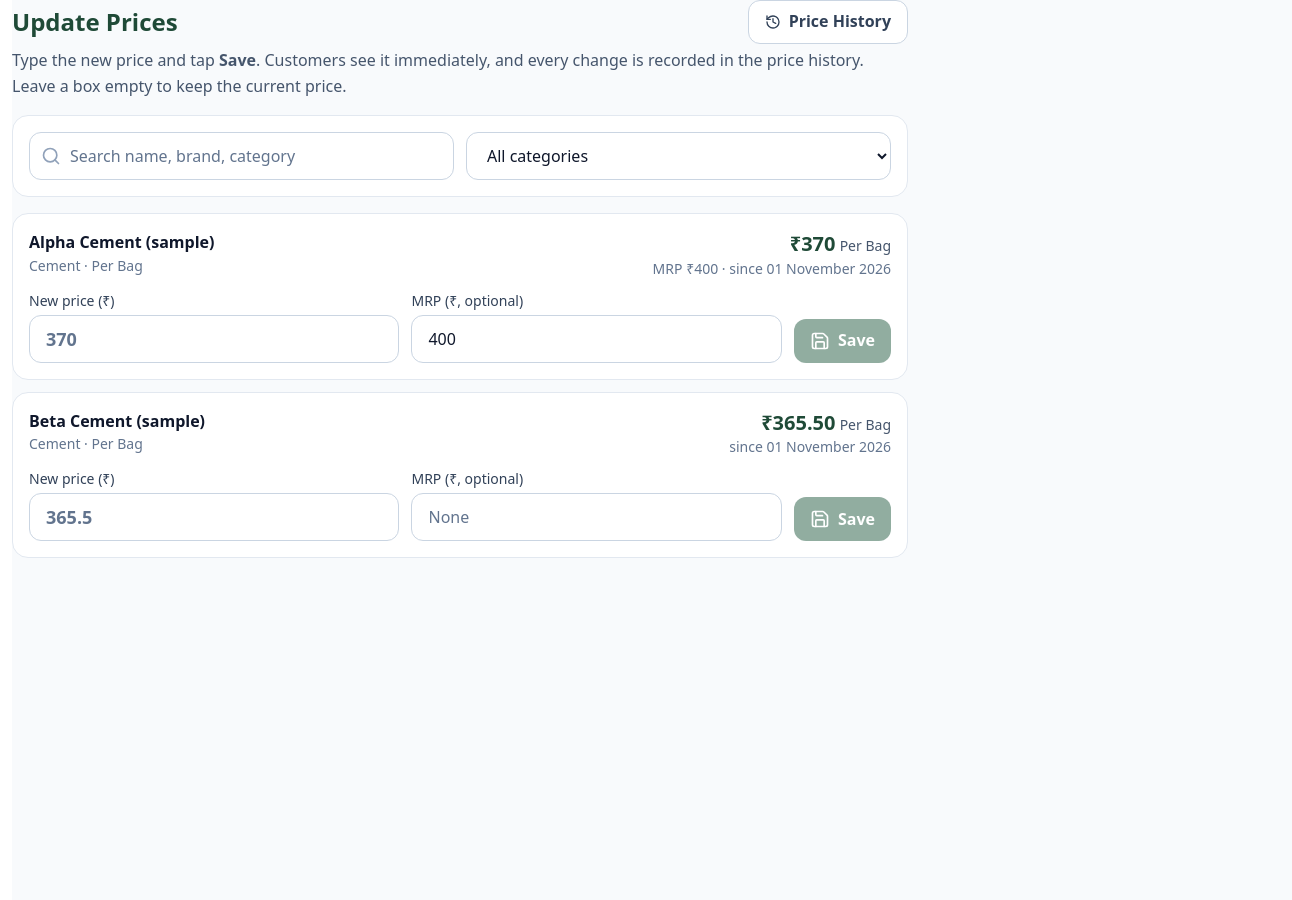
Update Prices page › does not save invalid prices
Step 1. Type "12.345" into the field labelled "New price (₹)" below "Beta Cement (sample)" → (214, 517), box [29, 493, 400, 541]
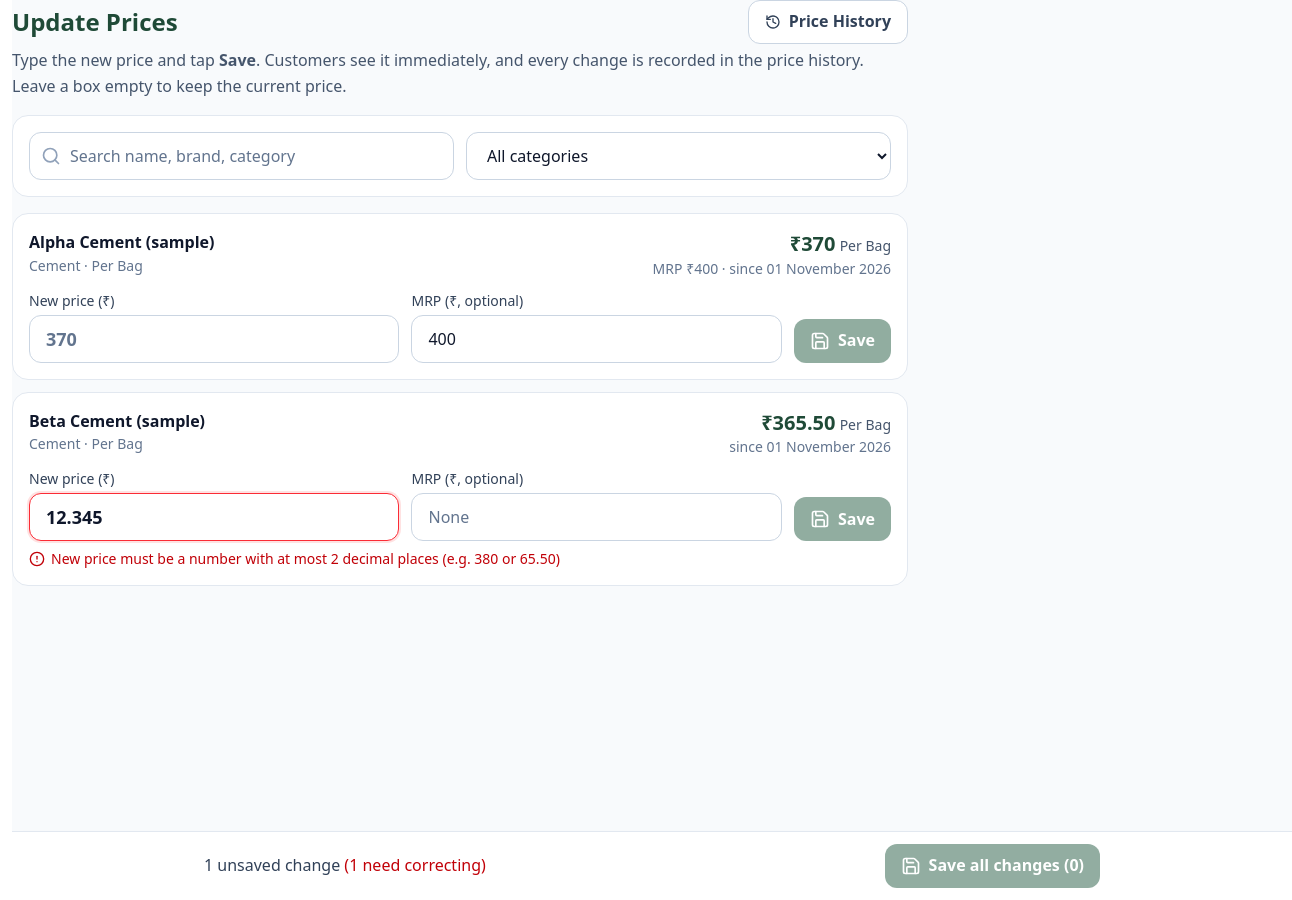
Expected: the button with aria-label "save price" is disabled, [794, 497, 891, 541]
Expected: the message shows "at most 2 decimal places", [51, 549, 560, 568]
